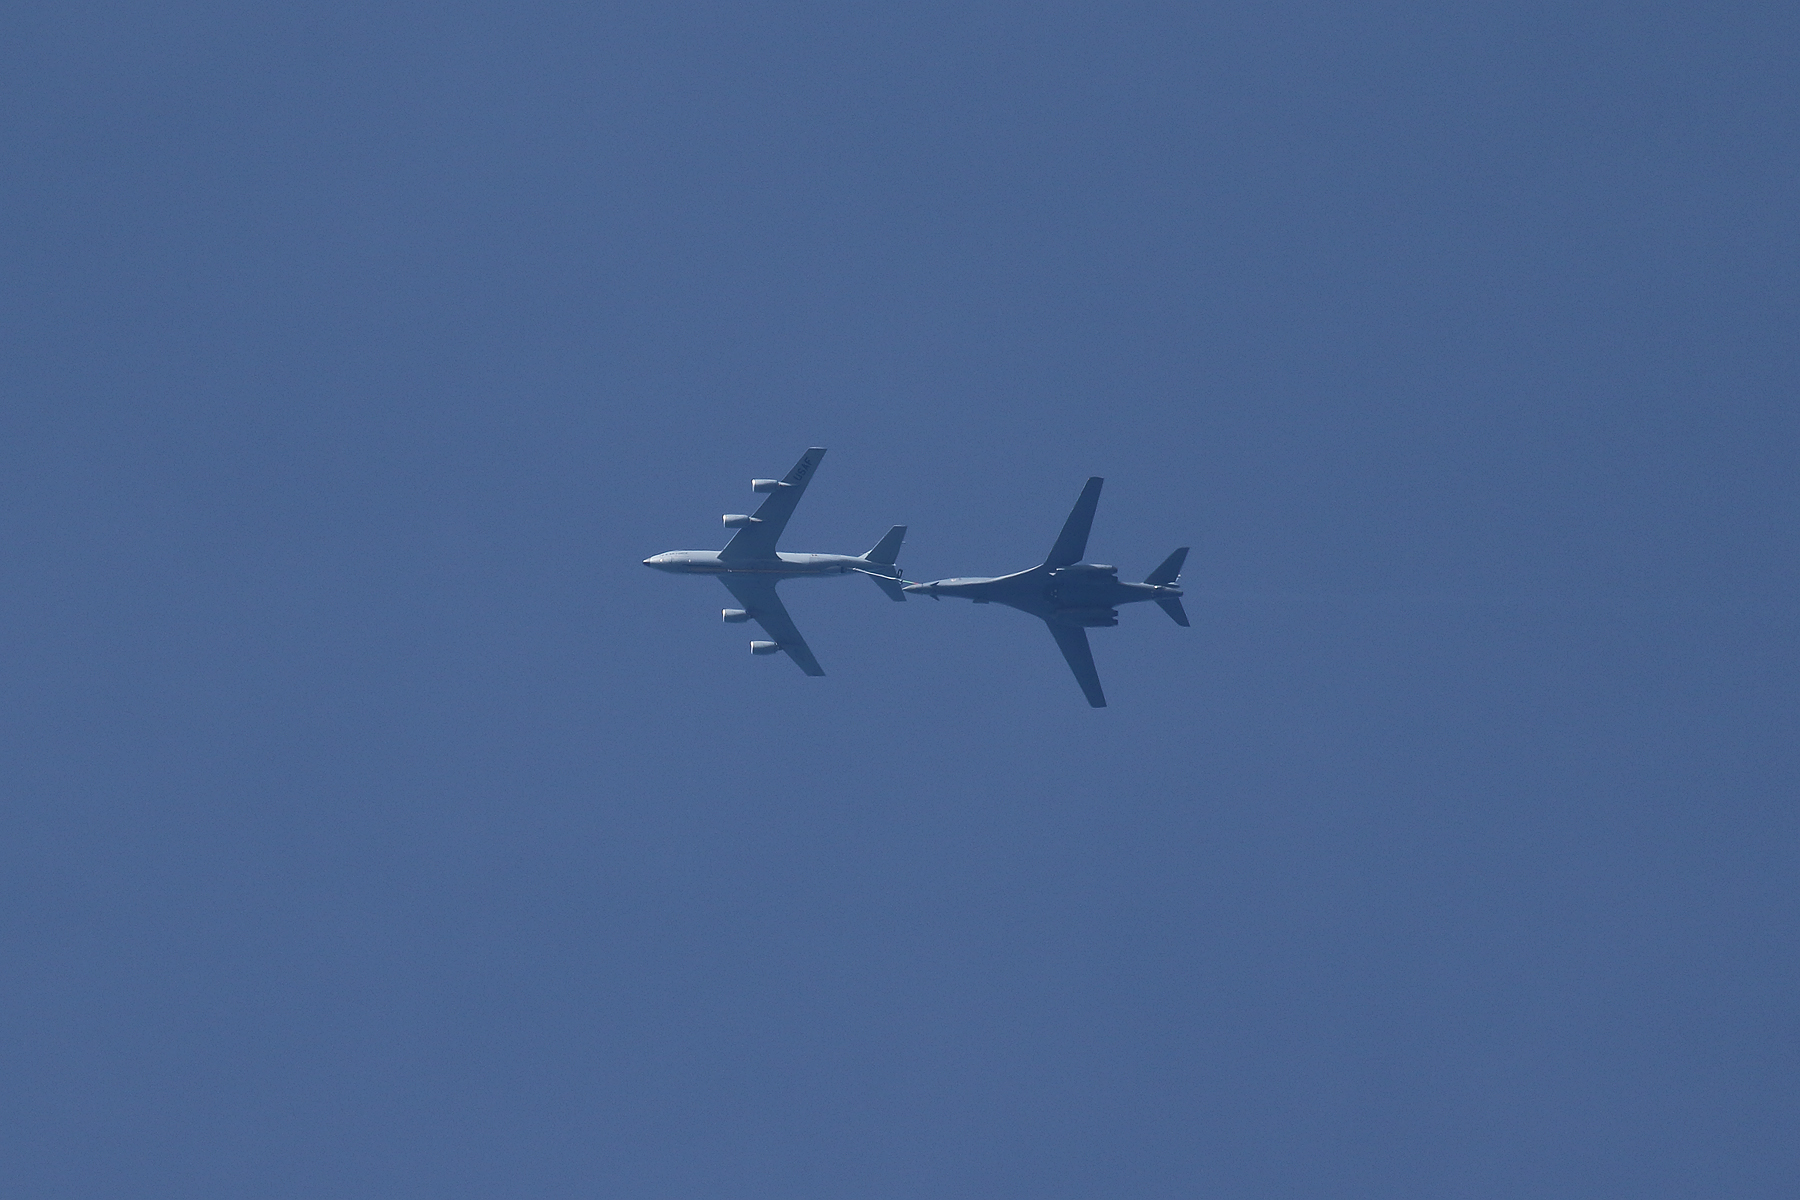airplane: (901, 475, 1191, 708), (642, 446, 920, 676)
